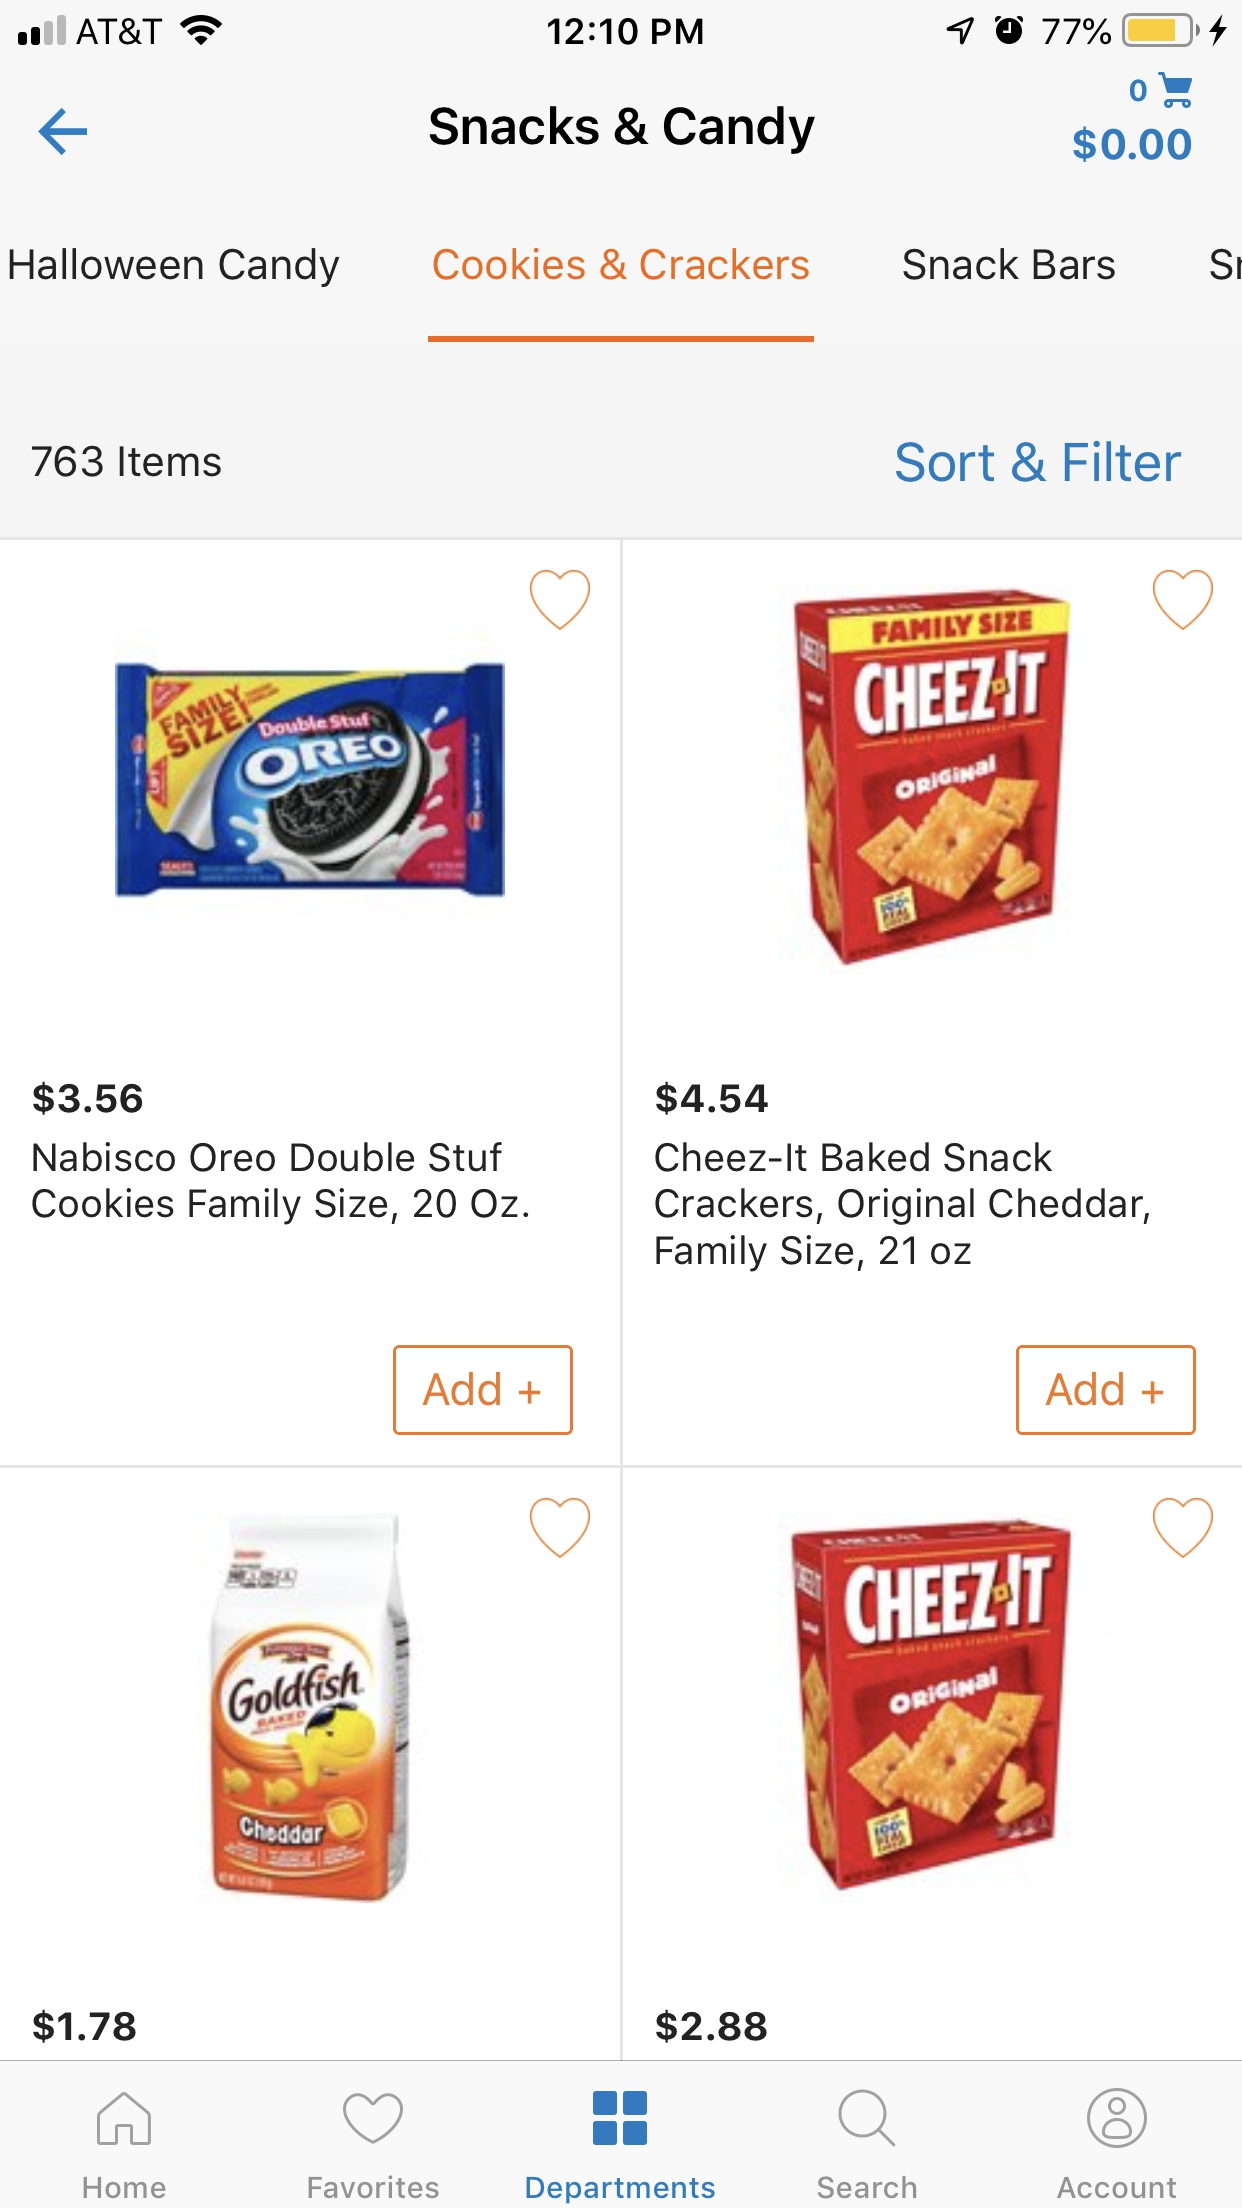Icon: (1151, 1497, 1215, 1559), (529, 569, 591, 631), (1153, 570, 1215, 632), (529, 1497, 591, 1559), (1086, 2087, 1148, 2149), (839, 2088, 898, 2147), (343, 2093, 405, 2144), (591, 2090, 648, 2146), (97, 2091, 153, 2146), (38, 108, 89, 158), (1157, 73, 1193, 111)
Image: (793, 588, 1071, 968), (792, 1516, 1072, 1890), (114, 663, 507, 899), (208, 1512, 412, 1905)
Text: (654, 1140, 1149, 1272), (32, 1140, 529, 1225), (420, 105, 816, 152), (8, 249, 341, 288), (434, 247, 810, 282), (895, 440, 1181, 484), (20, 440, 220, 481), (902, 249, 1116, 282), (526, 2176, 717, 2205), (1074, 124, 1192, 164), (655, 1081, 769, 1116), (655, 2009, 767, 2044), (33, 1081, 144, 1116), (33, 2009, 138, 2044), (306, 2175, 440, 2199), (1055, 2176, 1177, 2200), (817, 2175, 917, 2200), (83, 2176, 167, 2200), (1209, 249, 1242, 281), (1128, 79, 1148, 103)
TextButton: (391, 1344, 575, 1436), (1015, 1344, 1197, 1436)
UpperTaskBar: (2, 2, 1242, 49)
